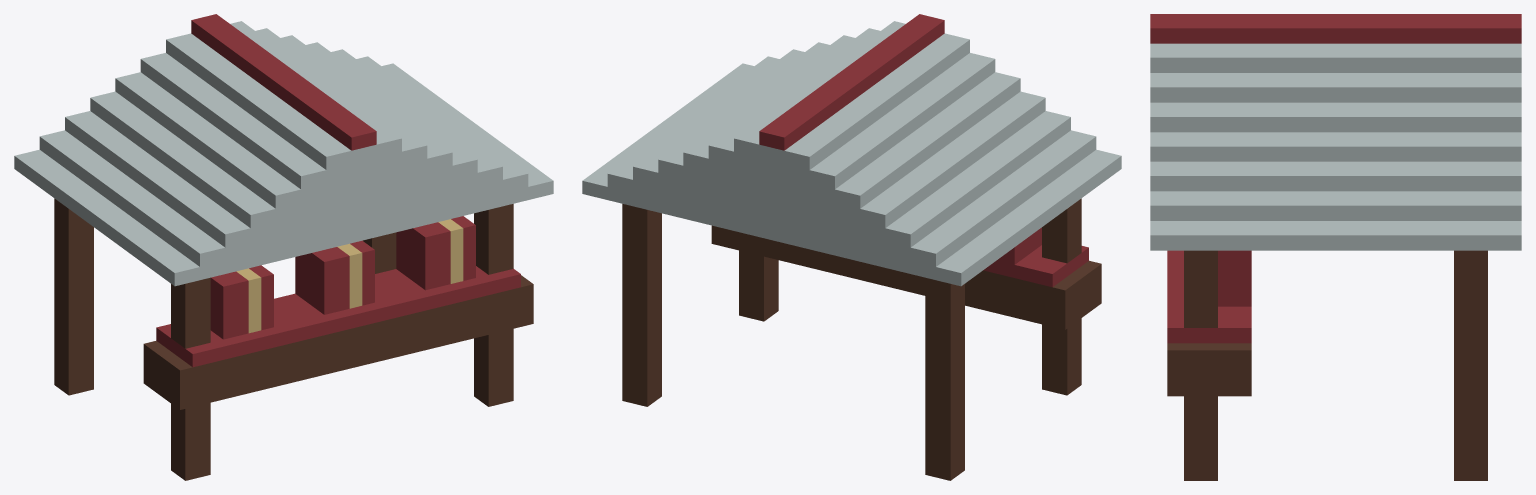
The model's file is market.glb.
The picture shows the model from 3 angles, left to right: view 1: azimuth 30°, elevation 25°; view 2: azimuth 150°, elevation 25°; view 3: azimuth 270°, elevation 25°; orthographic projection. The views are drawn at different scales.
Visible parts, largest first — view 1: Shell; view 2: Shell; view 3: Shell.
Part boxes in pixels (x1,y1,x2,y2): Shell: [14, 14, 553, 480]; Shell: [582, 14, 1121, 480]; Shell: [1150, 14, 1521, 480].
Size of the model in its own units: 3.75 by 3 by 2.75.
